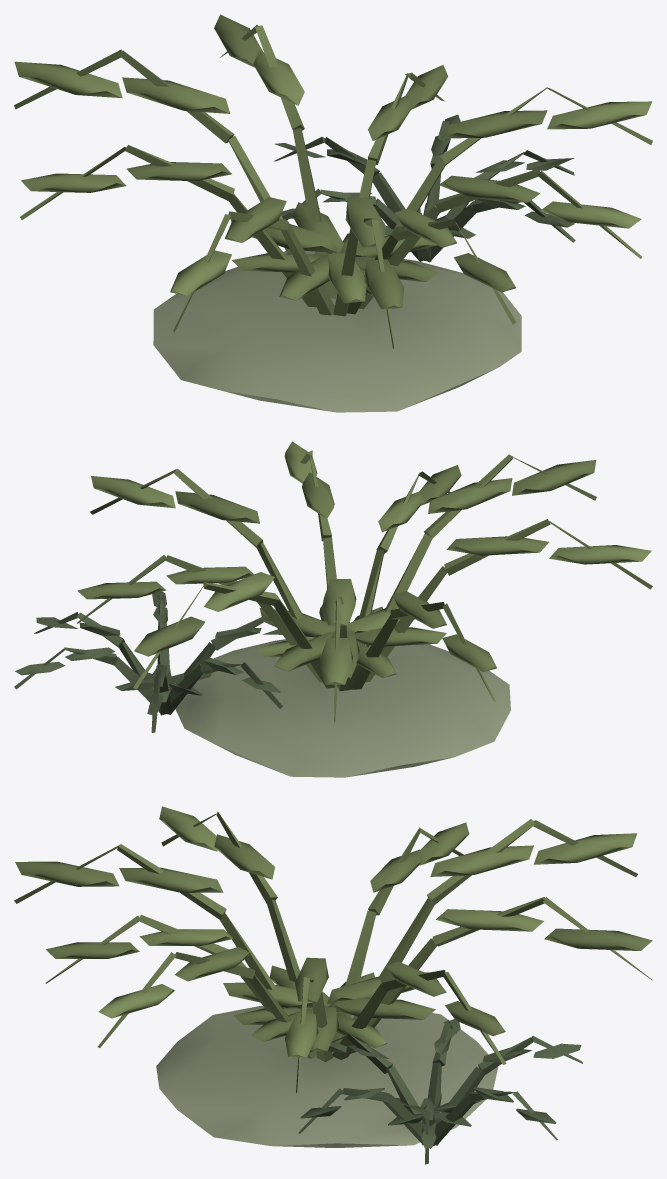
Rendered from cave_fern_a_lod1.glb.
3 renders of one model, top to bottom at view 1: azimuth 30°, elevation 25°; view 2: azimuth 150°, elevation 25°; view 3: azimuth 270°, elevation 25°, orthographic. The views are drawn at different scales.
Parts seen in each view (by area): view 1: Surface.001; view 2: Surface.001; view 3: Surface.001.
Boxes of the visible parts, x1,y1,x2,y2 form: Surface.001: [14, 14, 652, 412]; Surface.001: [14, 441, 652, 777]; Surface.001: [14, 806, 652, 1164].
Bounding box in the file's own units: 2.31 × 1.01 × 2.48.
